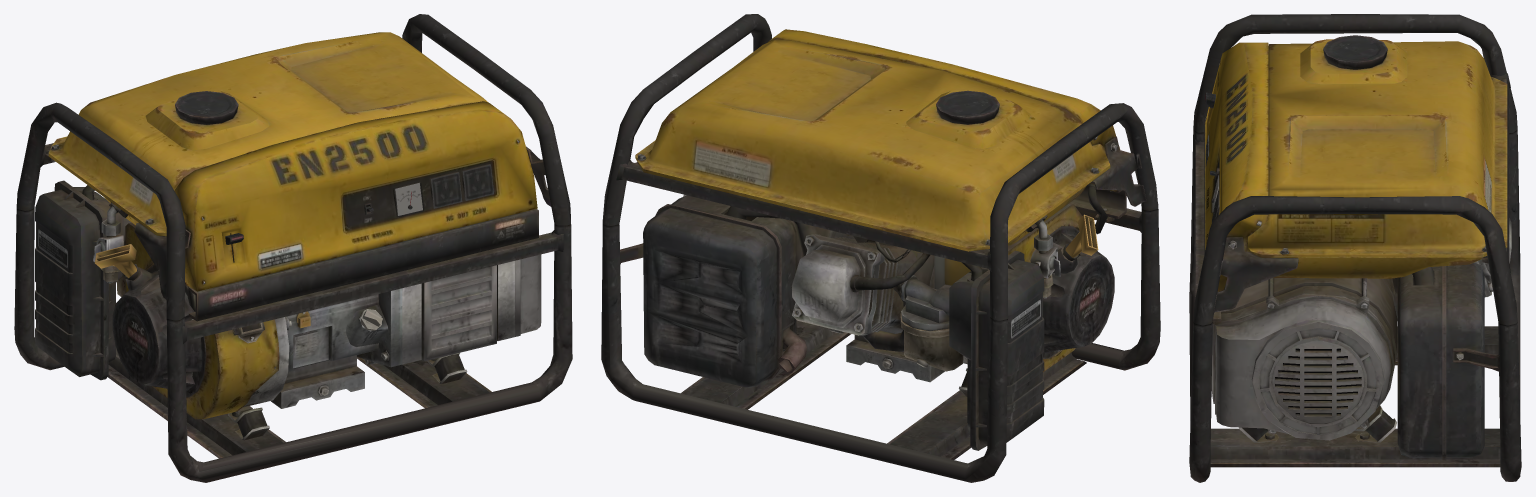
File: portable_generator.glb
3 renders of one model, left to right at view 1: azimuth 30°, elevation 25°; view 2: azimuth 150°, elevation 25°; view 3: azimuth 270°, elevation 25°, orthographic.
Parts seen in each view (by area): view 1: portable_generator; view 2: portable_generator; view 3: portable_generator.
Boxes of the visible parts, x1=… form: portable_generator: x1=14, y1=14, x2=572, y2=482; portable_generator: x1=601, y1=14, x2=1160, y2=482; portable_generator: x1=1189, y1=14, x2=1521, y2=482.
Size of the model in its own units: 0.8169 by 0.5752 by 0.564.
Materials: 2 (2 with a texture image).
